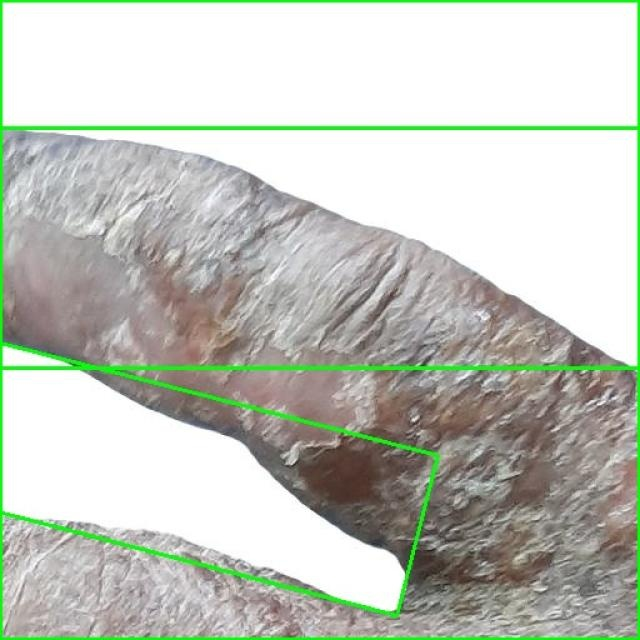Eczema: (0, 128, 639, 639), (0, 0, 639, 368), (0, 332, 442, 616)
